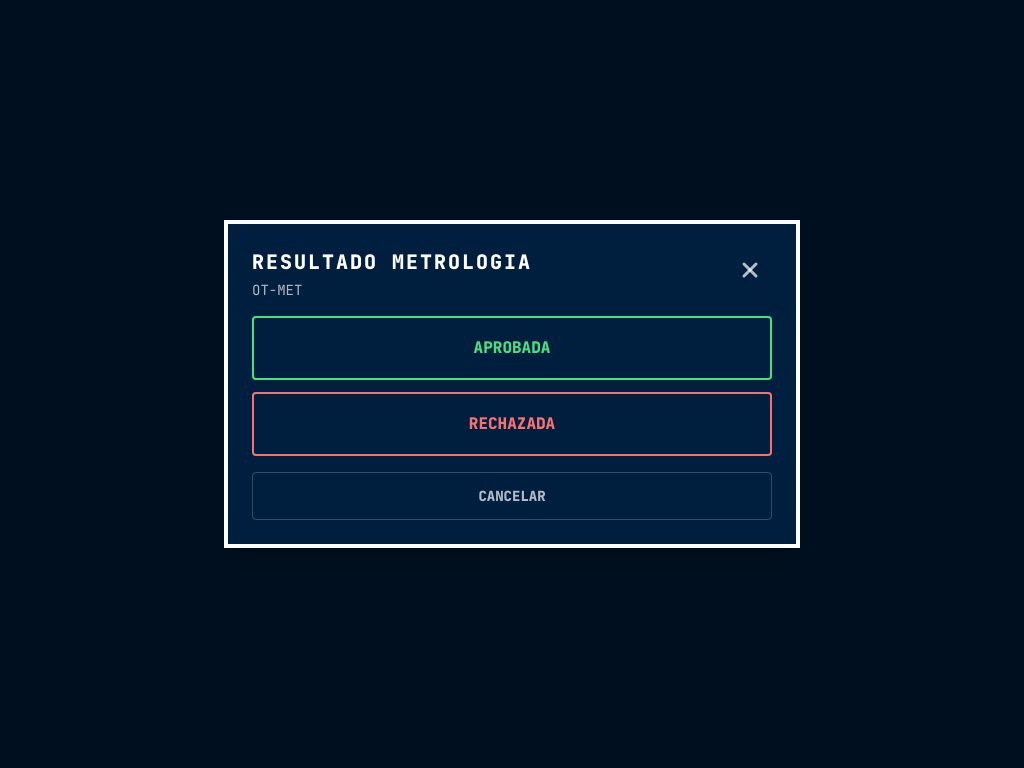
Scenario: MetrologiaModal — step 2: worker selection › back button returns to step 1
Click the button "APROBADA" at x=512, y=348, box [252,316,772,380]
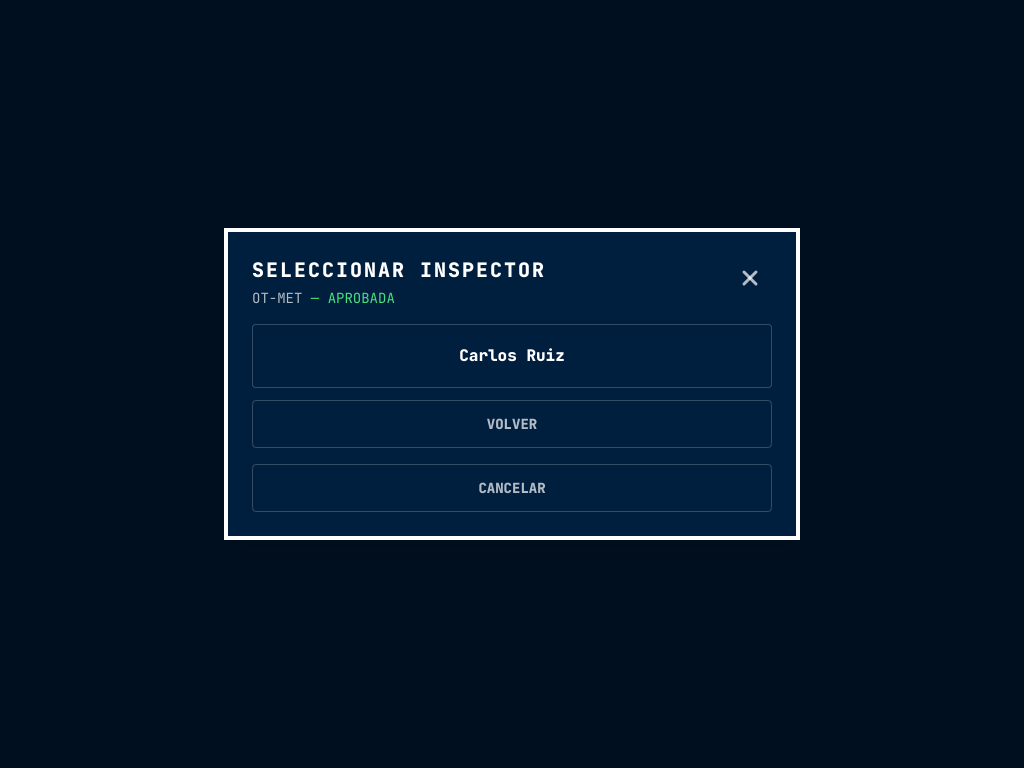
Result: the heading "SELECCIONAR INSPECTOR" is shown at [252,256,546,284]
Click the button "VOLVER" at x=512, y=424, box [252,400,772,448]
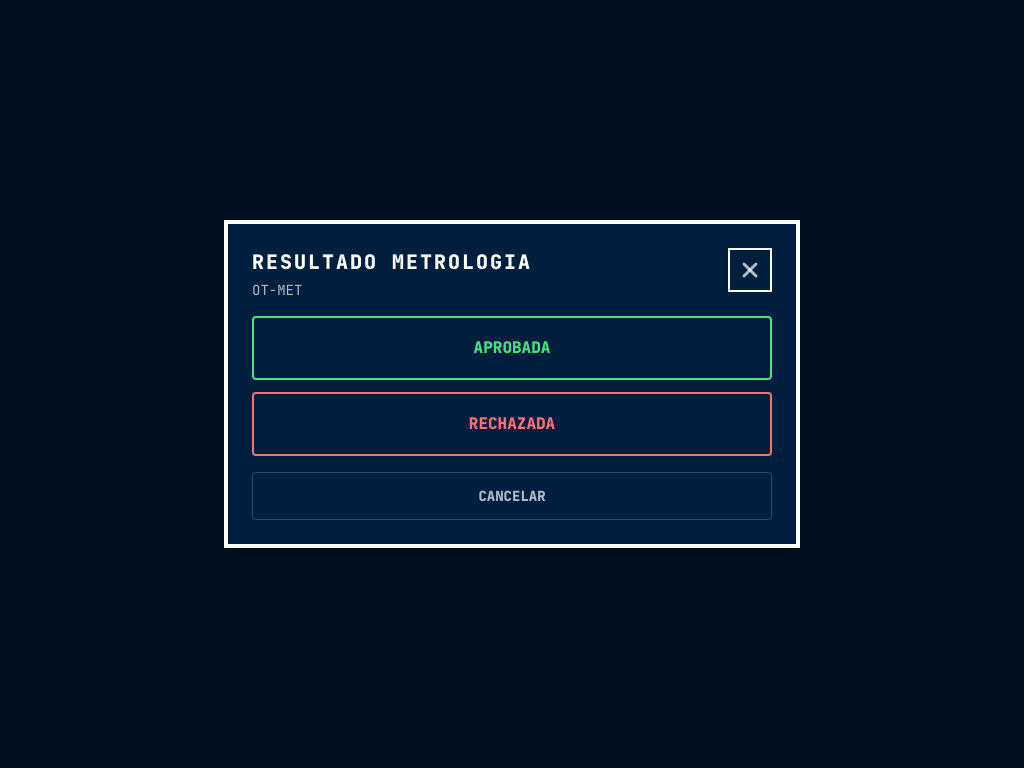
Result: the button "APROBADA" is shown at [252,316,772,380]
Result: the button "RECHAZADA" is shown at [252,392,772,456]
